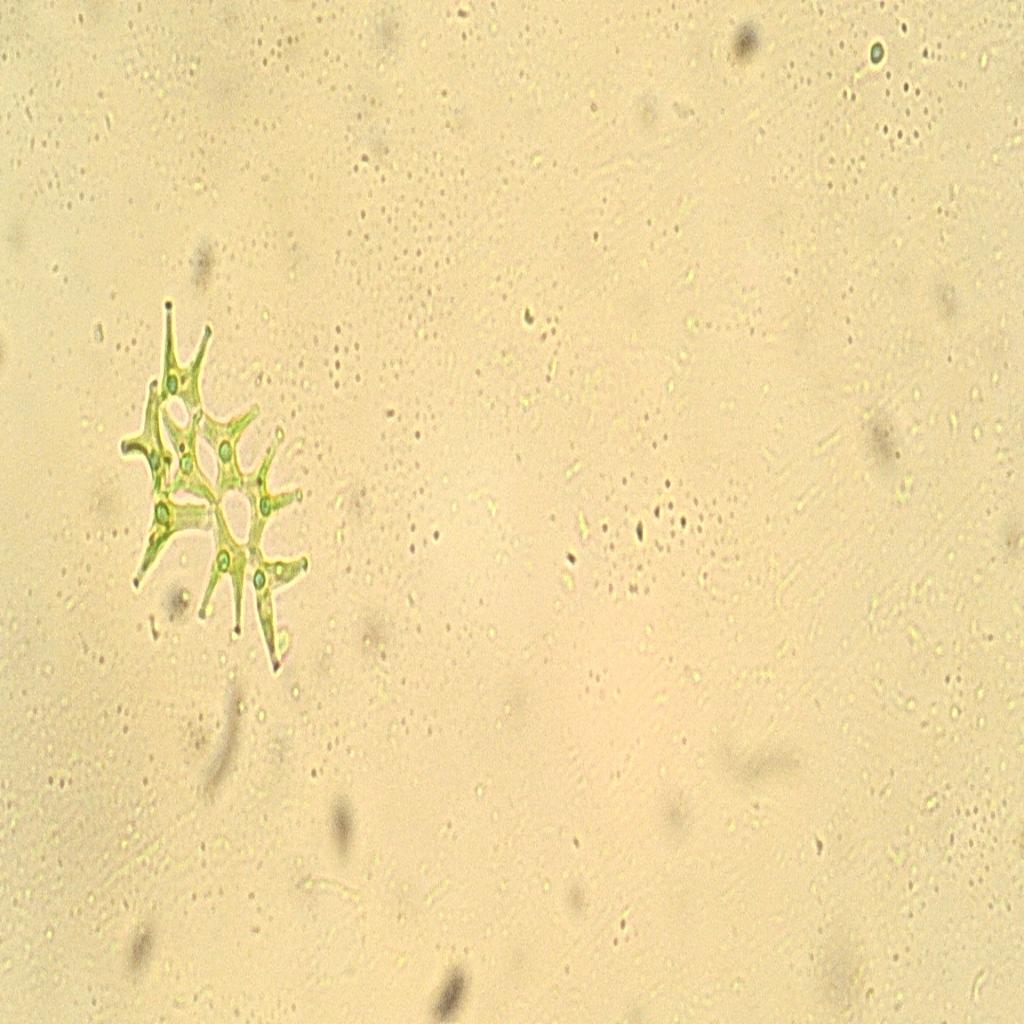Pediastrum_CFI: (86, 275, 345, 703)
